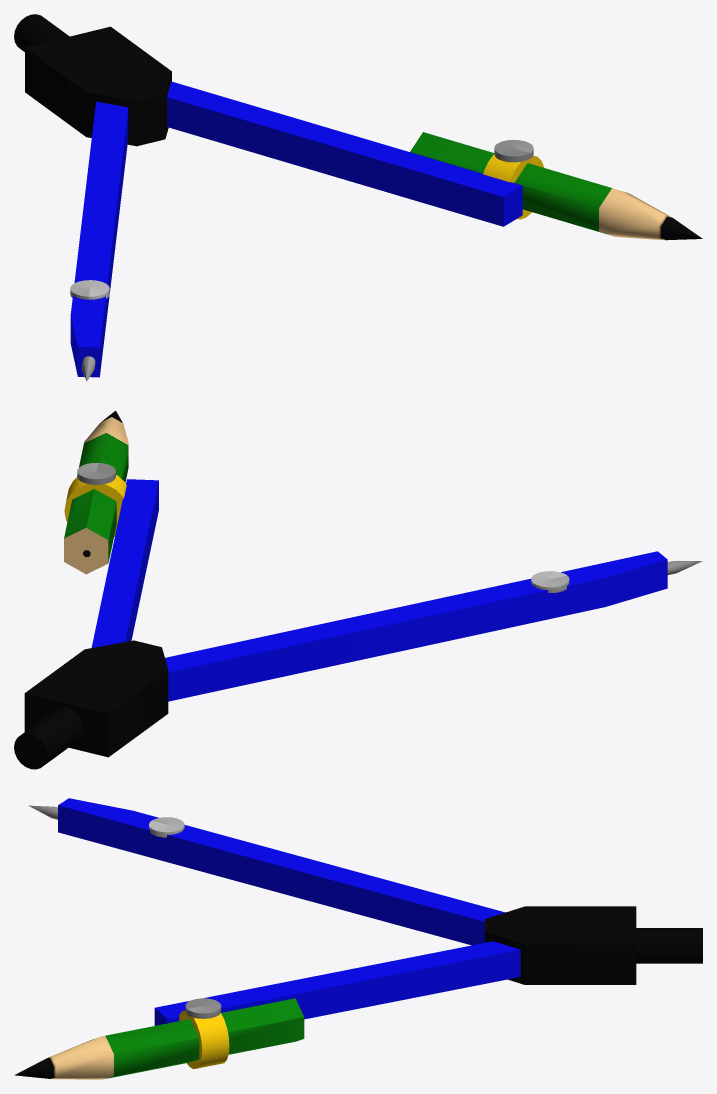
File: stationery_04_open.glb
The picture shows the model from 3 angles, top to bottom: view 1: azimuth 30°, elevation 25°; view 2: azimuth 150°, elevation 25°; view 3: azimuth 270°, elevation 25°; orthographic projection. The views are drawn at different scales.
Visible parts, largest first — view 1: obj3; view 2: obj3; view 3: obj3.
Boxes of the visible parts, x1,y1,x2,y2 form: obj3: [14, 14, 702, 381]; obj3: [14, 410, 702, 769]; obj3: [14, 798, 702, 1079].
Bounding box in the file's own units: 10.65 × 1.09 × 11.5.
Materials: 1 (1 with a texture image).
